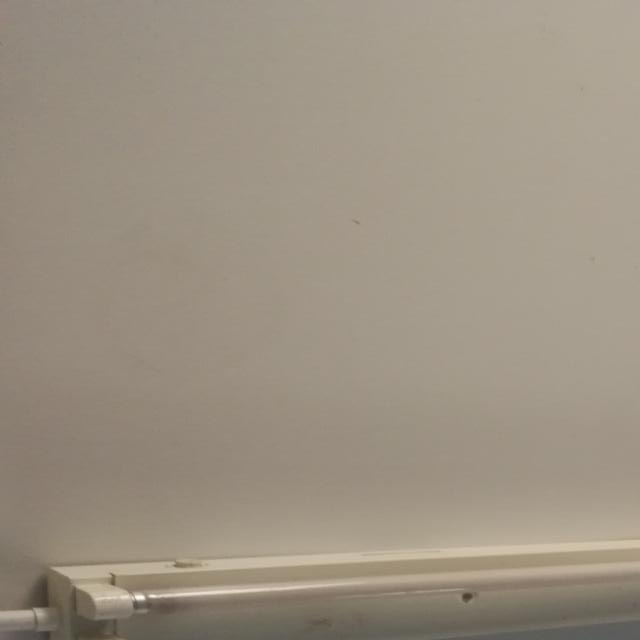fluorescent tube: (19, 495, 639, 640)
